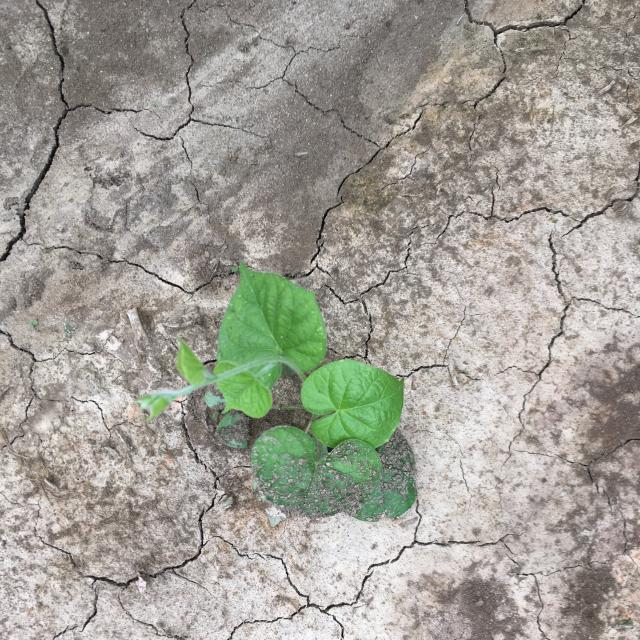MorningGlory: (134, 261, 418, 522)
